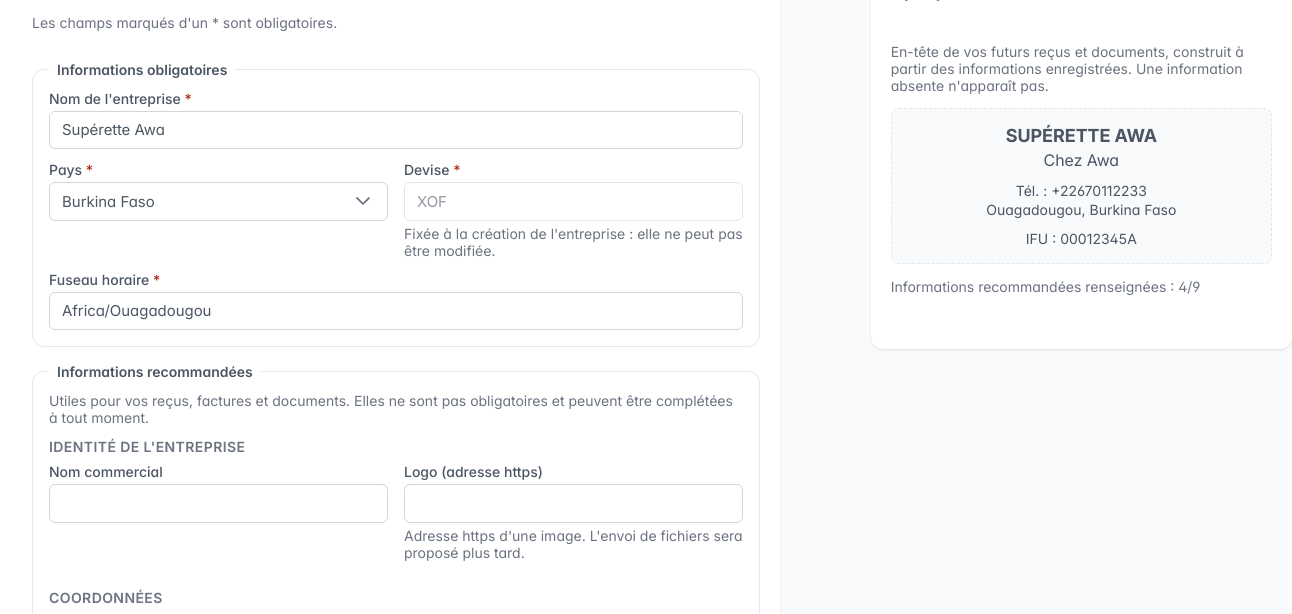
Test: Entreprise : configuration et identité documentaire › refus du serveur rattaché au champ concerné
expect the field showing "Supérette Awa" is shown: met, box [49,110,743,149]
In the field labelled "Logo (adresse https)": (574, 504) [404,484,743,523], type "https://cdn.example.com/logo.png"
(page scrolled)
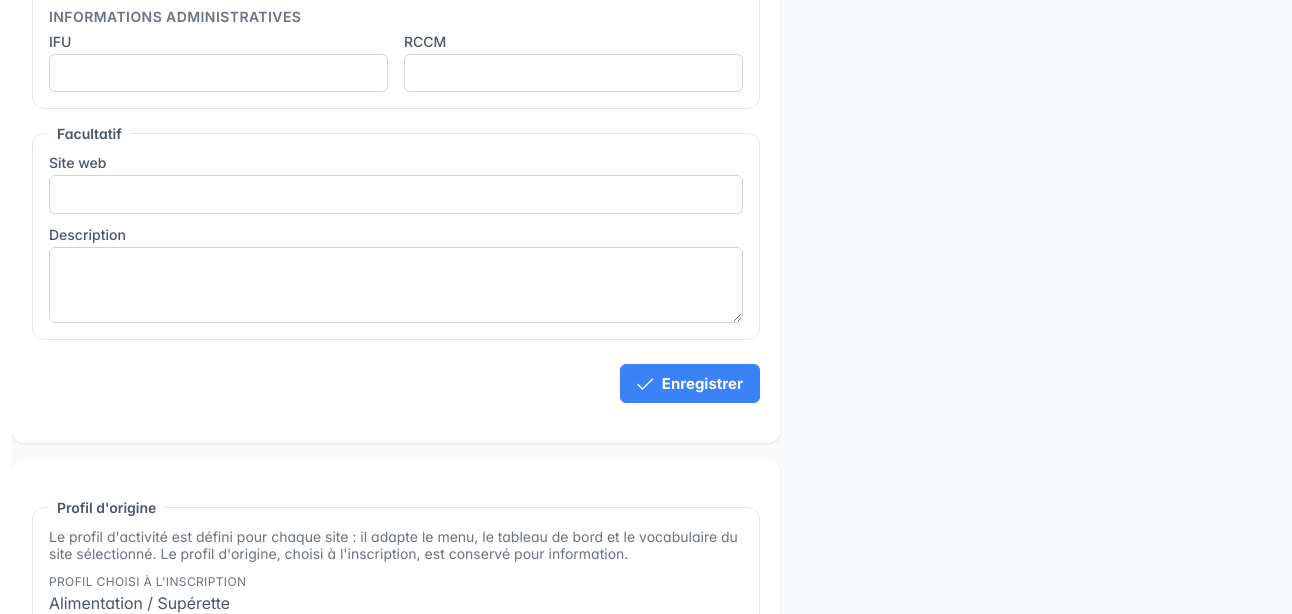
Click the button "Enregistrer": (690, 384) [620,364,760,403]
(page scrolled)
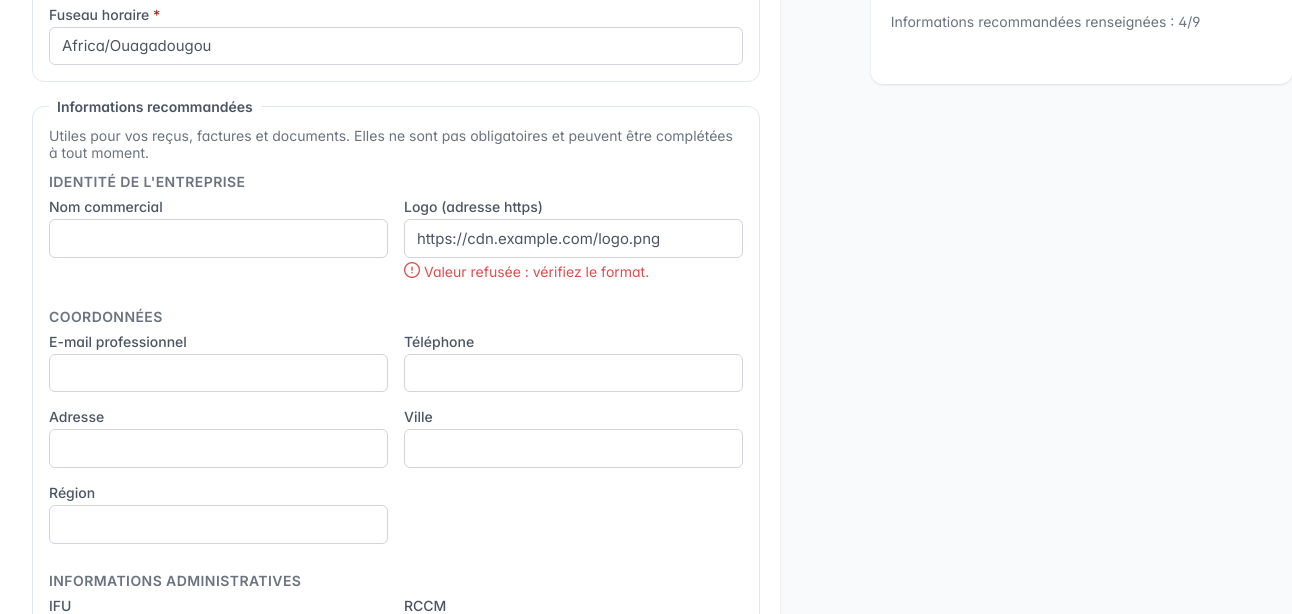
expect the text "Valeur refusée : vérifiez le format." is shown: met, box [404,262,649,280]
